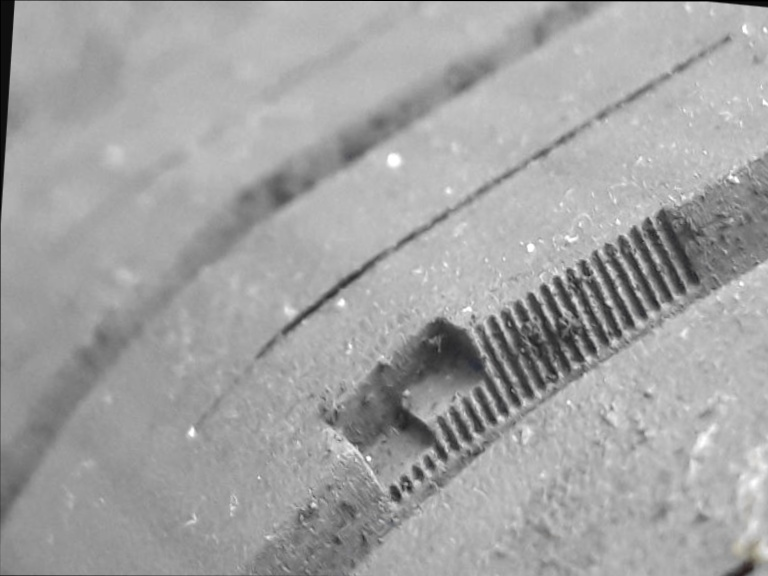temoin:50: (304, 245, 581, 536)
